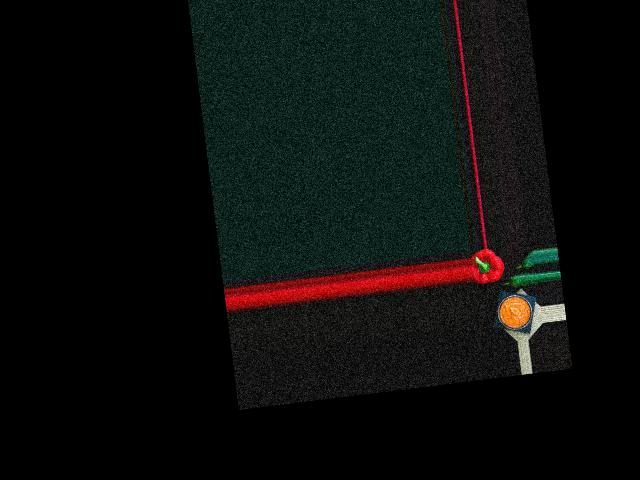bell_pepper: (470, 248, 505, 285)
